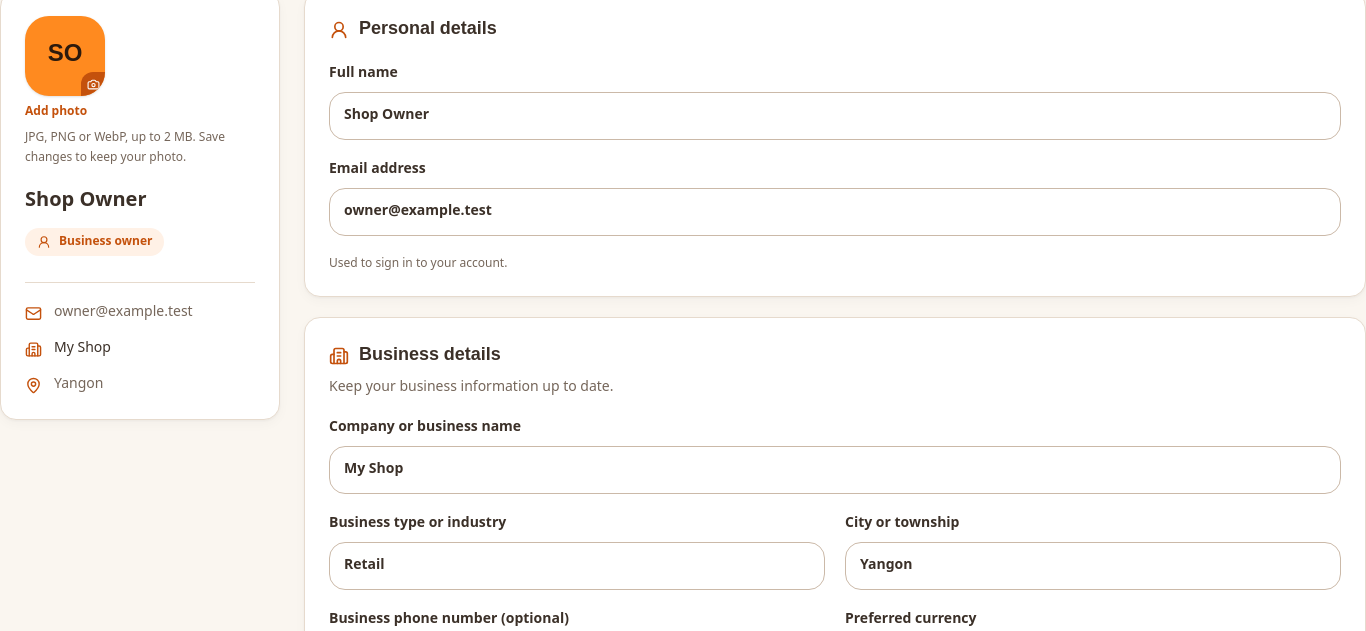
Scenario: User profile › cancels unsaved account and business edits without making a request
The image size is (1366, 631).
Replace the text in the field labelled "Full name" with "Unsaved Owner" at (835, 116), box [329, 92, 1341, 140]
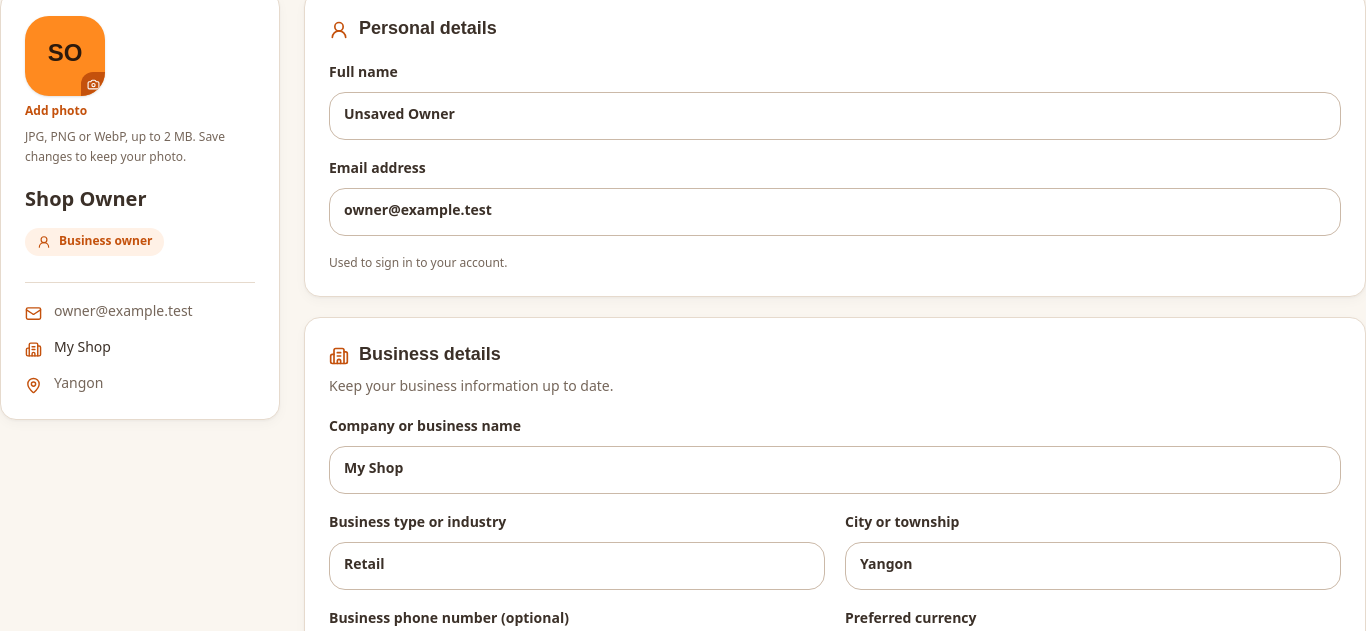
Replace the text in the field labelled "Company or business name" with "Unsaved Shop" at (835, 470), box [329, 446, 1341, 494]
(page scrolled)
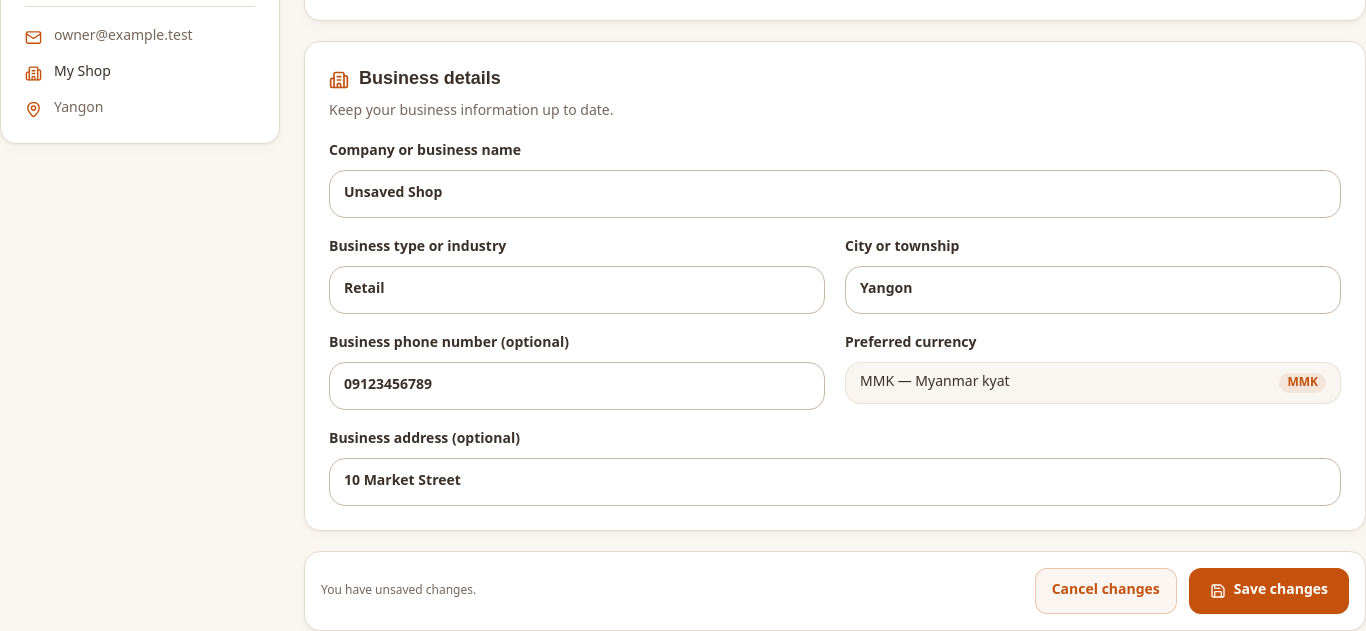
Replace the text in the field labelled "Business phone number (optional)" with "09999999999" at (577, 386), box [329, 362, 825, 410]
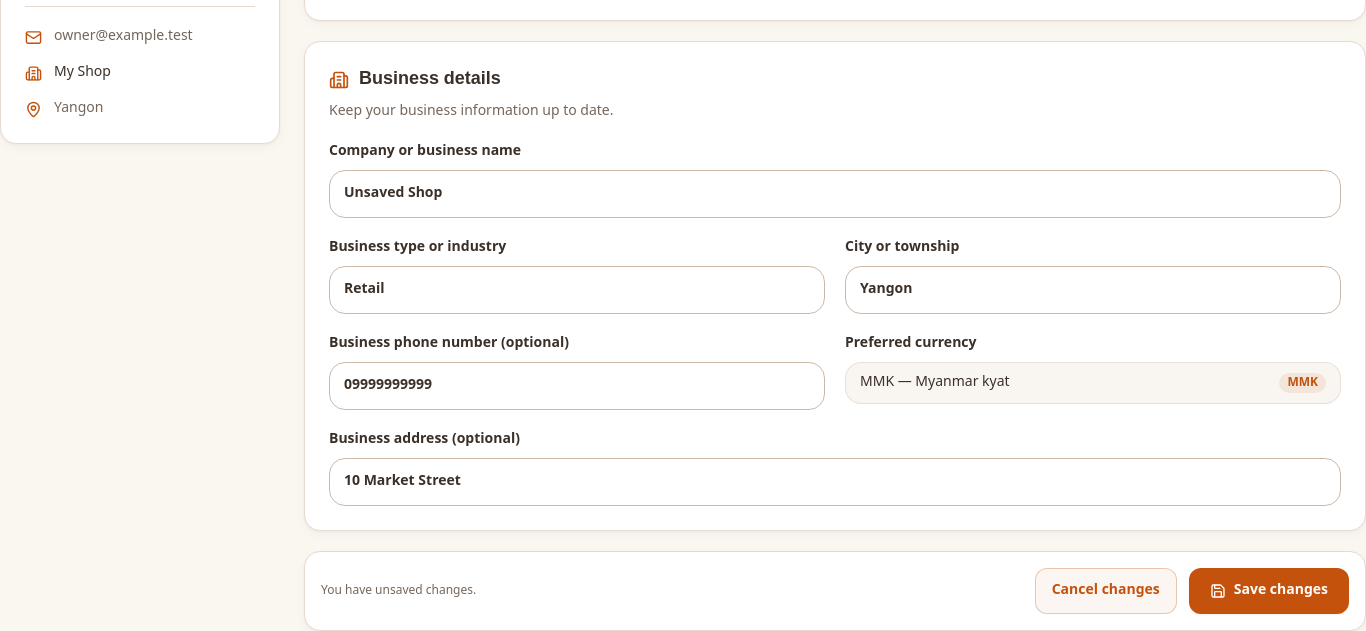
Result: the button "Save changes" is enabled at [1189, 568, 1349, 614]
Click the button "Cancel changes" at (1106, 591), box [1035, 568, 1177, 614]
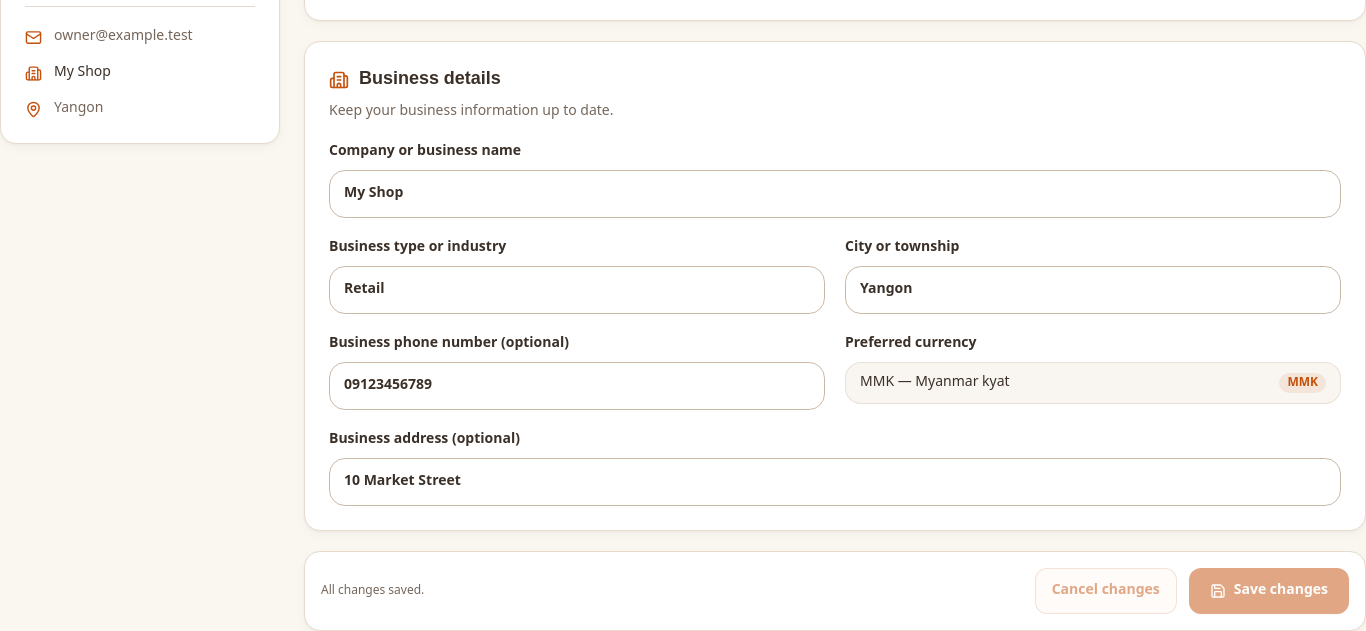
Result: the field labelled "Company or business name" holds "My Shop" at [329, 170, 1341, 218]
Result: the field labelled "Business phone number (optional)" holds "09123456789" at [329, 362, 825, 410]
Result: the button "Save changes" is disabled at [1189, 568, 1349, 614]
